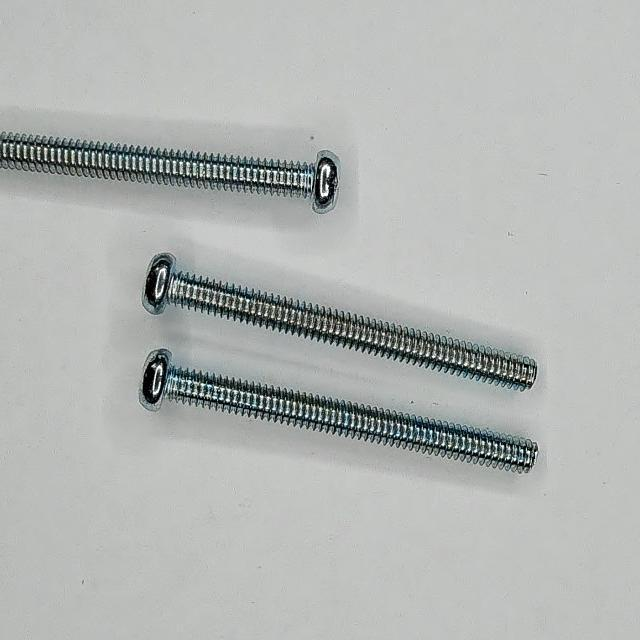Screw: (143, 254, 538, 390), (139, 349, 539, 474), (0, 132, 340, 213)
